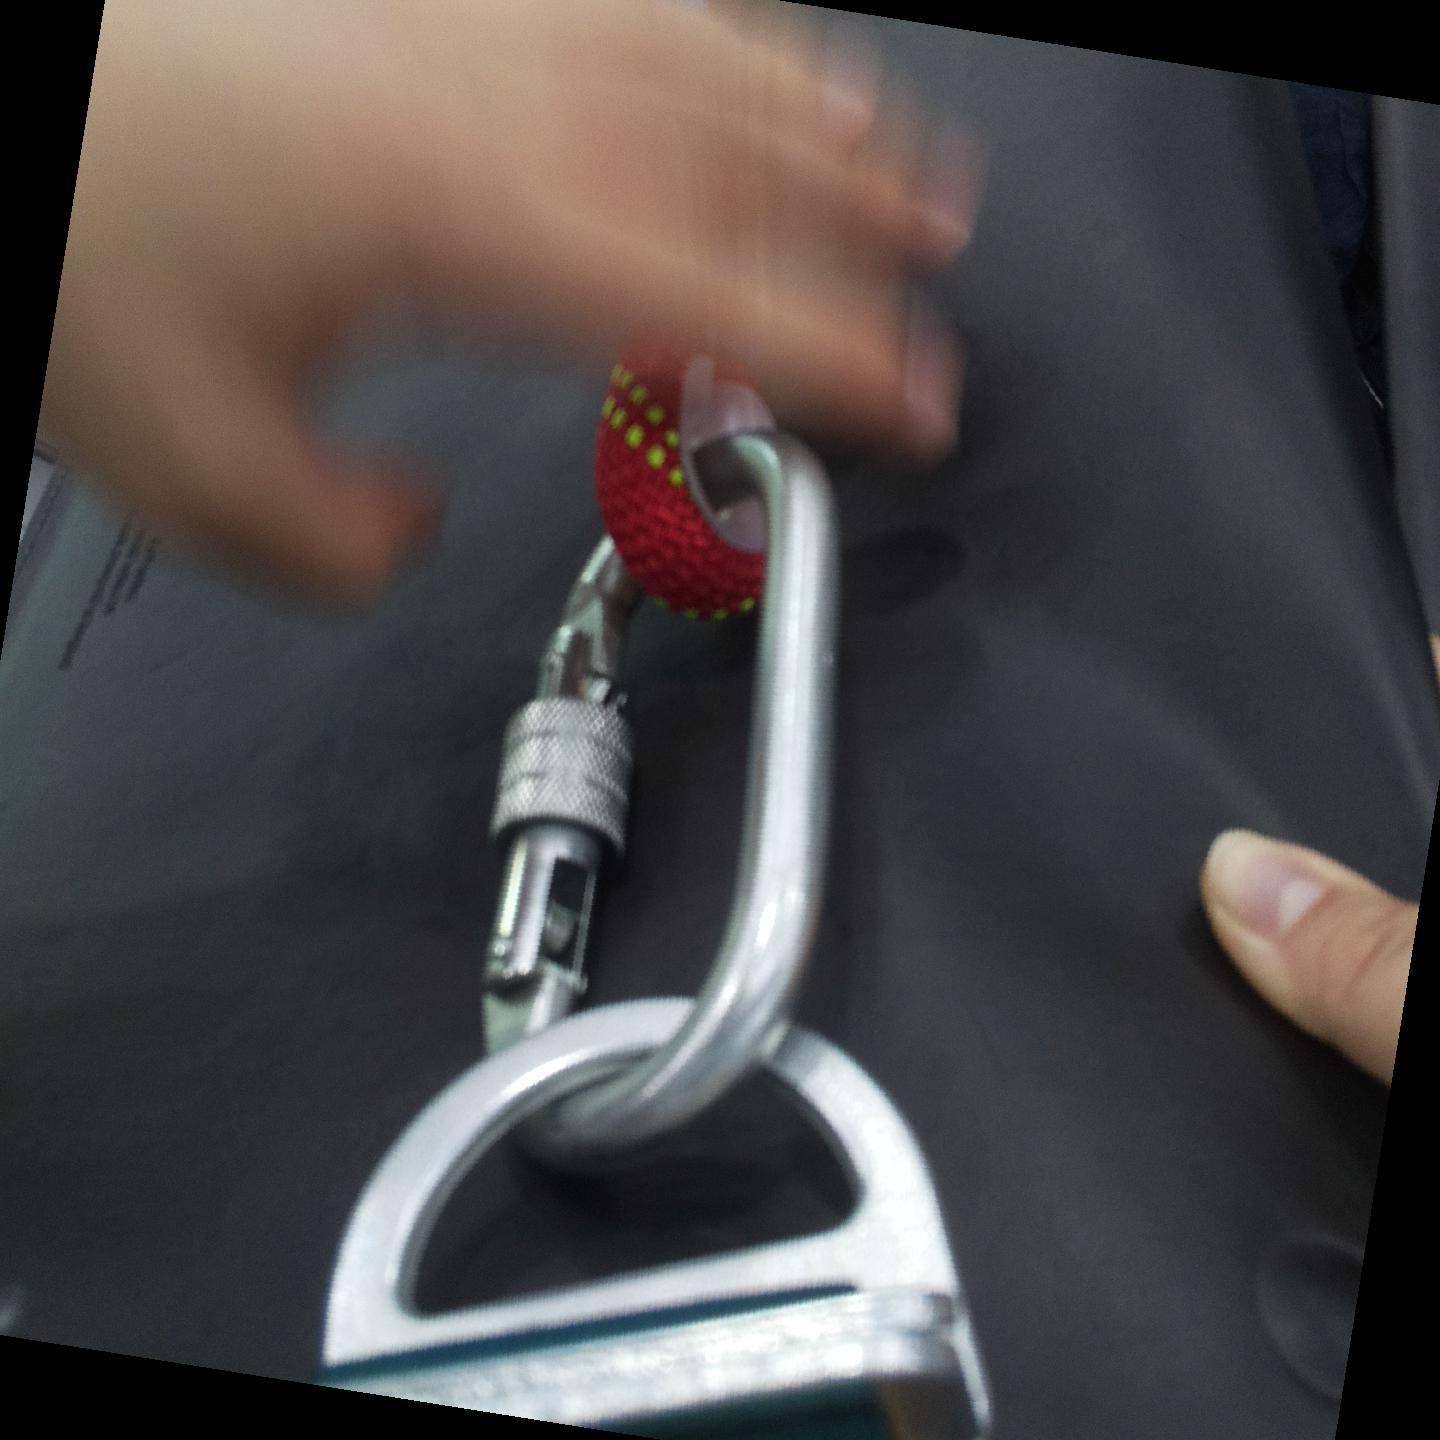SUCCESS: (307, 717, 992, 1394)
